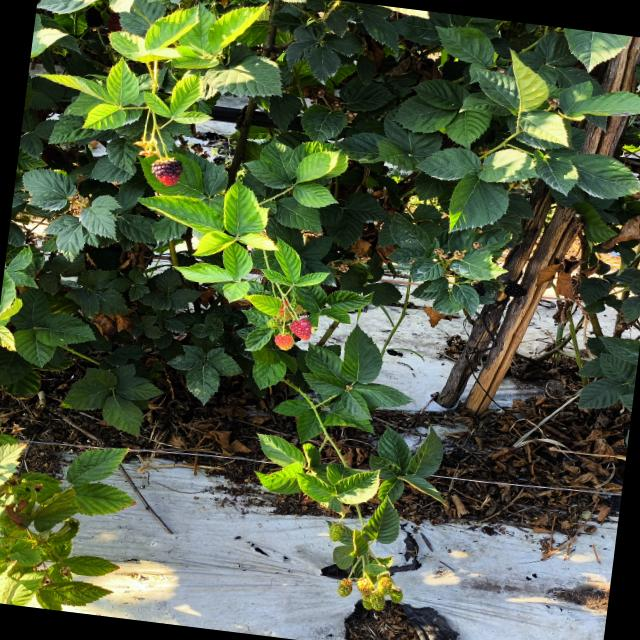maduro: (503, 280, 527, 297)
marron: (151, 157, 182, 185)
naranja: (289, 318, 311, 340), (274, 334, 294, 350)
verde: (374, 575, 392, 594), (356, 577, 373, 597), (370, 592, 385, 611), (329, 523, 343, 541), (338, 578, 352, 596), (390, 584, 403, 603), (266, 317, 279, 329), (362, 594, 372, 609), (291, 304, 304, 315), (280, 307, 284, 314)
